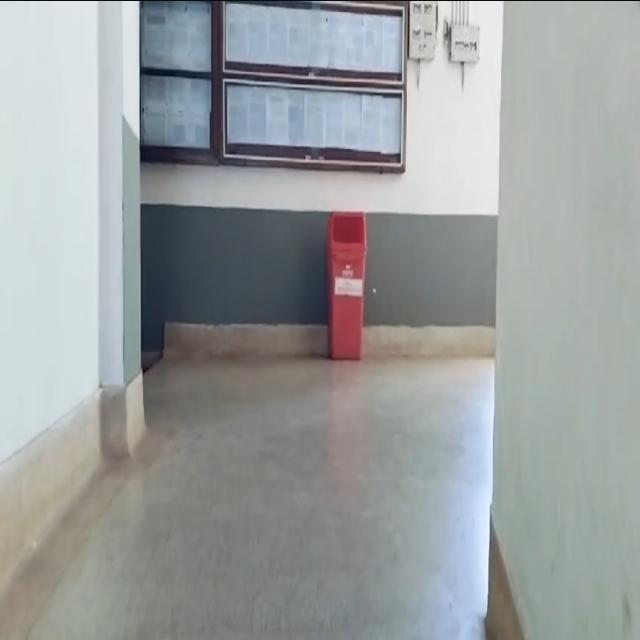dustbin ahead at: (322, 201, 371, 363)
